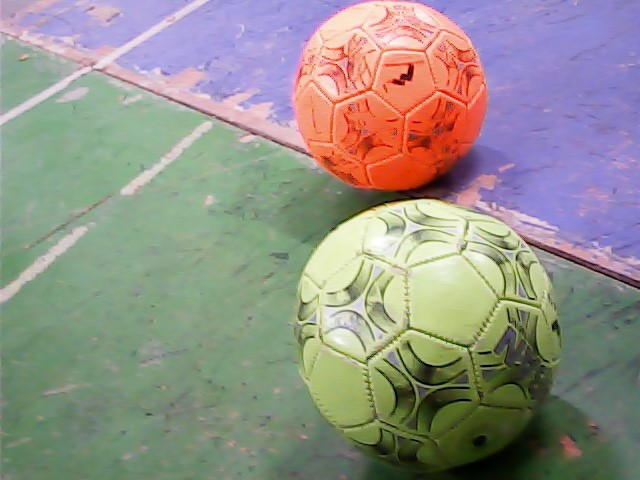Green_ball: (293, 199, 575, 471)
Orange_ball: (291, 2, 501, 195)
